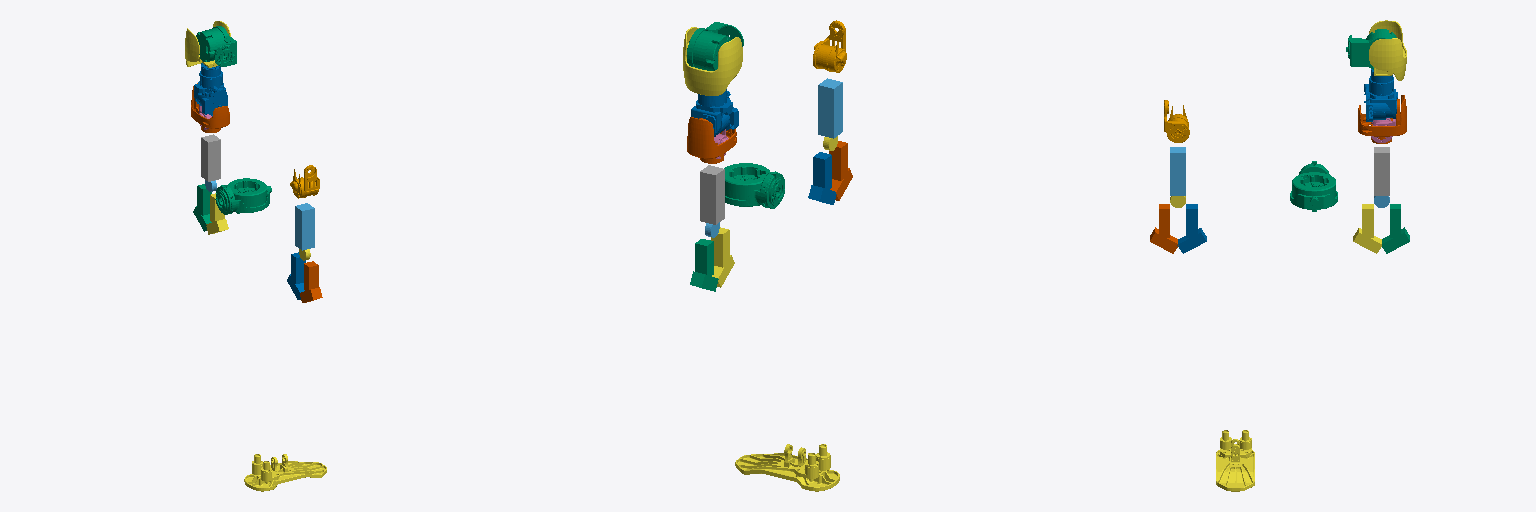
--- What the picture shows (computed from the rendered views, not written in the file) ---
Views: 3 orthographic renders of the robot side by side, from view 1: azimuth 30°, elevation 25°; view 2: azimuth 150°, elevation 25°; view 3: azimuth 270°, elevation 25°.
Robot: my_robot_description — 50 links, 49 joints (32 revolute, 17 fixed); root link dummy_link; default pose: every joint at zero.
Links seen in each view (by area): view 1: leg_r6_link, leg_l1_link, zarm_l1_link, zarm_l3_link, zarm_r6_link, zarm_l6_link, zarm_l4_link, zarm_r5_link, zarm_r_finger_right, zarm_l2_link, zarm_r_finger_left, zarm_l_finger_left; view 2: leg_r6_link, leg_l1_link, zarm_l2_link, zarm_l1_link, zarm_l4_link, zarm_r6_link, zarm_l6_link, zarm_l3_link, zarm_r5_link, zarm_l_finger_left, zarm_r_finger_left, zarm_r_finger_right (+1 smaller); view 3: leg_r6_link, leg_l1_link, zarm_l2_link, zarm_l3_link, zarm_l4_link, zarm_l1_link, zarm_l6_link, zarm_r6_link, zarm_l_finger_right, zarm_r_finger_left, zarm_l_finger_left, zarm_r_finger_right (+1 smaller).
Link boxes in pixels (left/top/right/bottom): leg_r6_link: left=244, top=454, right=326, bottom=491; leg_l1_link: left=215, top=178, right=271, bottom=214; zarm_l1_link: left=196, top=26, right=236, bottom=66; zarm_l3_link: left=194, top=63, right=227, bottom=115; zarm_r6_link: left=295, top=203, right=314, bottom=250; zarm_l6_link: left=201, top=134, right=220, bottom=181; zarm_l4_link: left=191, top=83, right=229, bottom=132; zarm_r5_link: left=290, top=165, right=319, bottom=198; zarm_r_finger_right: left=300, top=261, right=322, bottom=302; zarm_l2_link: left=185, top=21, right=230, bottom=67; zarm_r_finger_left: left=287, top=252, right=305, bottom=299; zarm_l_finger_left: left=193, top=184, right=211, bottom=231; leg_r6_link: left=735, top=444, right=839, bottom=491; leg_l1_link: left=724, top=163, right=784, bottom=208; zarm_l2_link: left=683, top=27, right=742, bottom=95; zarm_l1_link: left=687, top=22, right=743, bottom=70; zarm_l4_link: left=687, top=117, right=736, bottom=163; zarm_r6_link: left=818, top=78, right=842, bottom=138; zarm_l6_link: left=700, top=165, right=724, bottom=224; zarm_l3_link: left=691, top=89, right=738, bottom=136; zarm_r5_link: left=813, top=20, right=846, bottom=72; zarm_l_finger_left: left=690, top=239, right=718, bottom=291; zarm_r_finger_left: left=808, top=152, right=836, bottom=204; zarm_r_finger_right: left=829, top=141, right=852, bottom=200; leg_r6_link: left=1216, top=430, right=1254, bottom=491; leg_l1_link: left=1290, top=161, right=1337, bottom=211; zarm_l2_link: left=1369, top=20, right=1406, bottom=80; zarm_l3_link: left=1364, top=69, right=1397, bottom=121; zarm_l4_link: left=1358, top=95, right=1406, bottom=143; zarm_l1_link: left=1346, top=29, right=1396, bottom=69; zarm_l6_link: left=1374, top=147, right=1389, bottom=195; zarm_r6_link: left=1170, top=147, right=1185, bottom=195; zarm_l_finger_right: left=1353, top=204, right=1381, bottom=253; zarm_r_finger_left: left=1177, top=204, right=1206, bottom=253; zarm_l_finger_left: left=1382, top=204, right=1409, bottom=253; zarm_r_finger_right: left=1150, top=204, right=1178, bottom=253.
Bounding box of the posed robot: 0.244 × 0.6633 × 1.23 m (x, y, z).
8 mesh visuals loaded from 27 distinct referenced files (8 binary STL); not drawn: 19 (file found but could not be loaded).

robot.urdf — my_robot_description:
<?xml version='1.0' encoding='utf-8'?>
<robot name="my_robot_description">
  <mujoco>
    <compiler meshdir="../meshes/" balanceinertia="true" discardvisual="false" />
  </mujoco>
  <link name="dummy_link" />
  <link name="base_link">
    <inertial>
      <origin xyz="-0.00505 0.0014 0.18077" rpy="0 0 0" />
      <mass value="18.7919" />
      <inertia ixx="0.28214" ixy="3e-05" ixz="0.01114" iyy="0.20534" iyz="0.00044" izz="0.13735" />
    </inertial>
    <visual>
      <origin xyz="0 0 0" rpy="0 0 0" />
      <geometry>
        <mesh filename="package://my_robot_description/meshes/biped_s40_meshes/base_link.STL" scale="1 1 1" />
      </geometry>
    </visual>
  </link>
  <joint name="dummy_to_base_link" type="fixed">
    <origin xyz="0 0 0" rpy="0 0 0" />
    <parent link="dummy_link" />
    <child link="base_link" />
  </joint>
  <link name="leg_l1_link">
    <inertial>
      <origin xyz="-0.00624961 -5.6e-06 -0.00874166" rpy="0 0 0" />
      <mass value="1.79206533" />
      <inertia ixx="0.00211603" ixy="7.6e-07" ixz="0.000107" iyy="0.00302948" iyz="4.73e-06" izz="0.00399385" />
    </inertial>
    <visual>
      <origin xyz="0 0 0" rpy="0 0 0" />
      <geometry>
        <mesh filename="package://my_robot_description/meshes/biped_s40_meshes/l_leg_roll.STL" scale="1 1 1" />
      </geometry>
    </visual>
  </link>
  <joint name="leg_l1_joint" type="revolute">
    <origin xyz="-0.0025 0.087 -0.066" rpy="0 0 0" />
    <parent link="base_link" />
    <child link="leg_l1_link" />
    <axis xyz="1 0 0" />
    <limit lower="-0.314159265358979" upper="0.663225115757845" effort="180.0" velocity="23.55" />
  </joint>
  <link name="leg_l2_link">
    <inertial>
      <origin xyz="4.471e-05 0.04985881 -0.11682314" rpy="0 0 0" />
      <mass value="1.67630577" />
      <inertia ixx="0.00548763" ixy="-2.73e-06" ixz="-9.2e-07" iyy="0.0041542" iyz="0.00050833" izz="0.00426092" />
    </inertial>
    <visual>
      <origin xyz="0 0 0" rpy="0 0 0" />
      <geometry>
        <mesh filename="package://my_robot_description/meshes/biped_s40_meshes/l_leg_yaw.STL" scale="1 1 1" />
      </geometry>
    </visual>
  </link>
  <joint name="leg_l2_joint" type="revolute">
    <origin xyz="0 0 0" rpy="0 0 0" />
    <parent link="leg_l1_link" />
    <child link="leg_l2_link" />
    <axis xyz="0 0 1" />
    <limit lower="-1.0471975511966" upper="0.523598775598299" effort="100.0" velocity="41.3433333333333" />
  </joint>
  <link name="leg_l3_link">
    <inertial>
      <origin xyz="-0.00238348 -0.02309435 -0.06304956" rpy="0 0 0" />
      <mass value="2.46847" />
      <inertia ixx="0.02435272" ixy="4.518e-05" ixz="0.00123822" iyy="0.02479772" iyz="0.00261624" izz="0.00478829" />
    </inertial>
    <visual>
      <origin xyz="0 0 0" rpy="0 0 0" />
      <geometry>
        <mesh filename="package://my_robot_description/meshes/biped_s40_meshes/l_leg_pitch.STL" scale="1 1 1" />
      </geometry>
    </visual>
  </link>
  <joint name="leg_l3_joint" type="revolute">
    <origin xyz="0 0.02545000000000 -0.1287" rpy="0 0 0" />
    <parent link="leg_l2_link" />
    <child link="leg_l3_link" />
    <axis xyz="0 1 0" />
    <limit lower="-1.83259571459405" upper="1.0471975511966" effort="100.0" velocity="41.3433333333333" />
  </joint>
  <link name="leg_l4_link">
    <inertial>
      <origin xyz="0.00304104 -4.1e-05 -0.12213928" rpy="0 0 0" />
      <mass value="1.86452506" />
      <inertia ixx="0.01537791" ixy="7.85e-06" ixz="-0.00010781" iyy="0.01559985" iyz="-0.00015323" izz="0.00123021" />
    </inertial>
    <visual>
      <origin xyz="0 0 0" rpy="0 0 0" />
      <geometry>
        <mesh filename="package://my_robot_description/meshes/biped_s40_meshes/l_knee.STL" scale="1 1 1" />
      </geometry>
    </visual>
  </link>
  <joint name="leg_l4_joint" type="revolute">
    <origin xyz="-0.010390161952608 0 -0.249783995753446" rpy="0 0 0" />
    <parent link="leg_l3_link" />
    <child link="leg_l4_link" />
    <axis xyz="0 1 0" />
    <limit lower="0.0" upper="2.18166156499291" effort="100.0" velocity="41.3433333333333" />
  </joint>
  <link name="leg_l5_link">
    <inertial>
      <origin xyz="0.0 0.0 0.0" rpy="0 0 0" />
      <mass value="0.06923929" />
      <inertia ixx="6.66e-06" ixy="0.0" ixz="0.0" iyy="6.66e-06" iyz="0.0" izz="1.172e-05" />
    </inertial>
    <visual>
      <origin xyz="0 0 0" rpy="0 0 0" />
      <geometry>
        <mesh filename="package://my_robot_description/meshes/biped_s40_meshes/l_foot_pitch.STL" scale="1 1 1" />
      </geometry>
    </visual>
  </link>
  <joint name="leg_l5_joint" type="revolute">
    <origin xyz="0 0 -0.346000000000004" rpy="0 0 0" />
    <parent link="leg_l4_link" />
    <child link="leg_l5_link" />
    <axis xyz="0 1 0" />
    <limit lower="-0.610865238198015" upper="0.523598775598299" effort="36.0" velocity="23.0266666666667" />
  </joint>
  <link name="leg_l6_link">
    <inertial>
      <origin xyz="-0.00987056 -7.58e-06 -0.03365514" rpy="0 0 0" />
      <mass value="0.58358325" />
      <inertia ixx="0.0006342" ixy="1.4e-07" ixz="0.00031564" iyy="0.00227317" iyz="-2e-08" izz="0.00239382" />
    </inertial>
    <visual>
      <origin xyz="0 0 0" rpy="0 0 0" />
      <geometry>
        <mesh filename="package://my_robot_description/meshes/biped_s40_meshes/l_foot_roll.STL" scale="1 1 1" />
      </geometry>
    </visual>
  </link>
  <joint name="leg_l6_joint" type="revolute">
    <origin xyz="0 0 0" rpy="0 0 0" />
    <parent link="leg_l5_link" />
    <child link="leg_l6_link" />
    <axis xyz="1 0 0" />
    <limit lower="-0.349065850398866" upper="0.349065850398866" effort="36.0" velocity="23.0266666666667" />
  </joint>
  <link name="ll_foot_toe">
    <collision>
      <origin rpy="0 0 0" xyz="0 0 0" />
      <geometry>
        <sphere radius="0.005" />
      </geometry>
    </collision>
  </link>
  <joint name="ll_foot_toe_joint" type="fixed">
    <origin xyz="0.142507 0.04773 -0.0595" rpy="0 0 0" />
    <parent link="leg_l6_link" />
    <child link="ll_foot_toe" />
  </joint>
  <link name="ll_foot_heel">
    <collision>
      <origin rpy="0 0 0" xyz="0 0 0" />
      <geometry>
        <sphere radius="0.005" />
      </geometry>
    </collision>
  </link>
  <joint name="ll_foot_heel_joint" type="fixed">
    <origin xyz="-0.10149 0.04773 -0.0595" rpy="0 0 0" />
    <parent link="leg_l6_link" />
    <child link="ll_foot_heel" />
  </joint>
  <link name="lr_foot_toe">
    <collision>
      <origin rpy="0 0 0" xyz="0 0 0" />
      <geometry>
        <sphere radius="0.005" />
      </geometry>
    </collision>
  </link>
  <joint name="lr_foot_toe_joint" type="fixed">
    <origin xyz="0.142507 -0.04773 -0.0595" rpy="0 0 0" />
    <parent link="leg_l6_link" />
    <child link="lr_foot_toe" />
  </joint>
  <link name="lr_foot_heel">
    <collision>
      <origin rpy="0 0 0" xyz="0 0 0" />
      <geometry>
        <sphere radius="0.005" />
      </geometry>
    </collision>
  </link>
  <joint name="lr_foot_heel_joint" type="fixed">
    <origin xyz="-0.10149 -0.04773 -0.0595" rpy="0 0 0" />
    <parent link="leg_l6_link" />
    <child link="lr_foot_heel" />
  </joint>
  <link name="l_foot_toe">
    <collision>
      <origin rpy="0 0 0" xyz="0 0 0" />
      <geometry>
        <sphere radius="0.005" />
      </geometry>
    </collision>
  </link>
  <joint name="l_foot_toe_joint" type="fixed">
    <origin xyz="0.142507 0.0 -0.0595" rpy="0 0 0" />
    <parent link="leg_l6_link" />
    <child link="l_foot_toe" />
  </joint>
  <link name="l_foot_heel">
    <collision>
      <origin rpy="0 0 0" xyz="0 0 0" />
      <geometry>
        <sphere radius="0.005" />
      </geometry>
    </collision>
  </link>
  <joint name="l_foot_heel_joint" type="fixed">
    <origin xyz="-0.10149 0.0 -0.0595" rpy="0 0 0" />
    <parent link="leg_l6_link" />
    <child link="l_foot_heel" />
  </joint>
  <link name="leg_r1_link">
    <inertial>
      <origin xyz="-0.00624961 5.65e-06 -0.00874165" rpy="0 0 0" />
      <mass value="1.79206572" />
      <inertia ixx="0.00211603" ixy="-7.6e-07" ixz="0.000107" iyy="0.00302948" iyz="-4.73e-06" izz="0.00399385" />
    </inertial>
    <visual>
      <origin xyz="0 0 0" rpy="0 0 0" />
      <geometry>
        <mesh filename="package://my_robot_description/meshes/biped_s40_meshes/r_leg_roll.STL" scale="1 1 1" />
      </geometry>
    </visual>
  </link>
  <joint name="leg_r1_joint" type="revolute">
    <origin xyz="-0.0025 -0.087 -0.066" rpy="0 0 0" />
    <parent link="base_link" />
    <child link="leg_r1_link" />
    <axis xyz="1 0 0" />
    <limit lower="-0.663225115757845" upper="0.314159265358979" effort="180.0" velocity="23.55" />
  </joint>
  <link name="leg_r2_link">
    <inertial>
      <origin xyz="4.471e-05 -0.04985878 -0.11682313" rpy="0 0 0" />
      <mass value="1.67630636" />
      <inertia ixx="0.00548764" ixy="2.73e-06" ixz="-9.2e-07" iyy="0.00415421" iyz="-0.00050832" izz="0.00426093" />
    </inertial>
    <visual>
      <origin xyz="0 0 0" rpy="0 0 0" />
      <geometry>
        <mesh filename="package://my_robot_description/meshes/biped_s40_meshes/r_leg_yaw.STL" scale="1 1 1" />
      </geometry>
    </visual>
  </link>
  <joint name="leg_r2_joint" type="revolute">
    <origin xyz="0 0 0" rpy="0 0 0" />
    <parent link="leg_r1_link" />
    <child link="leg_r2_link" />
    <axis xyz="0 0 1" />
    <limit lower="-0.523598775598299" upper="1.0471975511966" effort="100.0" velocity="41.3433333333333" />
  </joint>
  <link name="leg_r3_link">
    <inertial>
      <origin xyz="-0.00238153 0.02309009 -0.06305853" rpy="0 0 0" />
      <mass value="2.46916674" />
      <inertia ixx="0.02435155" ixy="-4.518e-05" ixz="0.00123747" iyy="0.02479853" iyz="-0.00261573" izz="0.0047908" />
    </inertial>
    <visual>
      <origin xyz="0 0 0" rpy="0 0 0" />
      <geometry>
        <mesh filename="package://my_robot_description/meshes/biped_s40_meshes/r_leg_pitch.STL" scale="1 1 1" />
      </geometry>
    </visual>
  </link>
  <joint name="leg_r3_joint" type="revolute">
    <origin xyz="0 -0.02545000000000 -0.1287" rpy="0 0 0" />
    <parent link="leg_r2_link" />
    <child link="leg_r3_link" />
    <axis xyz="0 1 0" />
    <limit lower="-1.83259571459405" upper="1.0471975511966" effort="100.0" velocity="41.3433333333333" />
  </joint>
  <link name="leg_r4_link">
    <inertial>
      <origin xyz="0.00304109 4.102e-05 -0.12213983" rpy="0 0 0" />
      <mass value="1.86454133" />
      <inertia ixx="0.01537809" ixy="-7.85e-06" ixz="-0.00010779" iyy="0.01560001" iyz="0.00015322" izz="0.00123022" />
    </inertial>
    <visual>
      <origin xyz="0 0 0" rpy="0 0 0" />
      <geometry>
        <mesh filename="package://my_robot_description/meshes/biped_s40_meshes/r_knee.STL" scale="1 1 1" />
      </geometry>
    </visual>
  </link>
  <joint name="leg_r4_joint" type="revolute">
    <origin xyz="-0.0103901619526017 0 -0.249783995753447" rpy="0 0 0" />
    <parent link="leg_r3_link" />
    <child link="leg_r4_link" />
    <axis xyz="0 1 0" />
    <limit lower="0.0" upper="2.18166156499291" effort="100.0" velocity="41.3433333333333" />
  </joint>
  <link name="leg_r5_link">
    <inertial>
      <origin xyz="0.0 0.0 0.0" rpy="0 0 0" />
      <mass value="0.06923929" />
      <inertia ixx="6.66e-06" ixy="0.0" ixz="0.0" iyy="6.66e-06" iyz="0.0" izz="1.172e-05" />
    </inertial>
    <visual>
      <origin xyz="0 0 0" rpy="0 0 0" />
      <geometry>
        <mesh filename="package://my_robot_description/meshes/biped_s40_meshes/r_foot_pitch.STL" scale="1 1 1" />
      </geometry>
    </visual>
  </link>
  <joint name="leg_r5_joint" type="revolute">
    <origin xyz="0 0 -0.346000000000011" rpy="0 0 0" />
    <parent link="leg_r4_link" />
    <child link="leg_r5_link" />
    <axis xyz="0 1 0" />
    <limit lower="-0.523598775598299" upper="0.523598775598299" effort="36.0" velocity="23.0266666666667" />
  </joint>
  <link name="leg_r6_link">
    <inertial>
      <origin xyz="-0.00987049 7.65e-06 -0.03365512" rpy="0 0 0" />
      <mass value="0.58358273" />
      <inertia ixx="0.0006342" ixy="-1.4e-07" ixz="0.00031564" iyy="0.00227317" iyz="2e-08" izz="0.00239382" />
    </inertial>
    <visual>
      <origin xyz="0 0 0" rpy="0 0 0" />
      <geometry>
        <mesh filename="package://my_robot_description/meshes/biped_s40_meshes/r_foot_roll.STL" scale="1 1 1" />
      </geometry>
    </visual>
  </link>
  <joint name="leg_r6_joint" type="revolute">
    <origin xyz="0 0 0" rpy="0 0 0" />
    <parent link="leg_r5_link" />
    <child link="leg_r6_link" />
    <axis xyz="1 0 0" />
    <limit lower="-0.349065850398866" upper="0.349065850398866" effort="36.0" velocity="23.0266666666667" />
  </joint>
  <link name="rl_foot_toe">
    <collision>
      <origin rpy="0 0 0" xyz="0 0 0" />
      <geometry>
        <sphere radius="0.005" />
      </geometry>
    </collision>
  </link>
  <joint name="rl_foot_toe_joint" type="fixed">
    <origin xyz="0.142507 0.04773 -0.0595" rpy="0 0 0" />
    <parent link="leg_r6_link" />
    <child link="rl_foot_toe" />
  </joint>
  <link name="rl_foot_heel">
    <collision>
      <origin rpy="0 0 0" xyz="0 0 0" />
      <geometry>
        <sphere radius="0.005" />
      </geometry>
    </collision>
  </link>
  <joint name="rl_foot_heel_joint" type="fixed">
    <origin xyz="-0.10149 0.04773 -0.0595" rpy="0 0 0" />
    <parent link="leg_r6_link" />
    <child link="rl_foot_heel" />
  </joint>
  <link name="rr_foot_toe">
    <collision>
      <origin rpy="0 0 0" xyz="0 0 0" />
      <geometry>
        <sphere radius="0.005" />
      </geometry>
    </collision>
  </link>
  <joint name="rr_foot_toe_joint" type="fixed">
    <origin xyz="0.142507 -0.04773 -0.0595" rpy="0 0 0" />
    <parent link="leg_r6_link" />
    <child link="rr_foot_toe" />
  </joint>
  <link name="rr_foot_heel">
    <collision>
      <origin rpy="0 0 0" xyz="0 0 0" />
      <geometry>
        <sphere radius="0.005" />
      </geometry>
    </collision>
  </link>
  <joint name="rr_foot_heel_joint" type="fixed">
    <origin xyz="-0.10149 -0.04773 -0.0595" rpy="0 0 0" />
    <parent link="leg_r6_link" />
    <child link="rr_foot_heel" />
  </joint>
  <link name="r_foot_toe">
    <collision>
      <origin rpy="0 0 0" xyz="0 0 0" />
      <geometry>
        <sphere radius="0.005" />
      </geometry>
    </collision>
  </link>
  <joint name="r_foot_toe_joint" type="fixed">
    <origin xyz="0.142507 0.0 -0.0595" rpy="0 0 0" />
    <parent link="leg_r6_link" />
    <child link="r_foot_toe" />
  </joint>
  <link name="r_foot_heel">
    <collision>
      <origin rpy="0 0 0" xyz="0 0 0" />
      <geometry>
        <sphere radius="0.005" />
      </geometry>
    </collision>
  </link>
  <joint name="r_foot_heel_joint" type="fixed">
    <origin xyz="-0.10149 0.0 -0.0595" rpy="0 0 0" />
    <parent link="leg_r6_link" />
    <child link="r_foot_heel" />
  </joint>
  <link name="zarm_l1_link">
    <inertial>
      <origin xyz="0.008 -0.00158 0.0036" rpy="0 0 0" />
      <mass value="1.15" />
      <inertia ixx="0.0006" ixy="5e-05" ixz="1e-05" iyy="0.00048" iyz="-6e-05" izz="0.0007" />
    </inertial>
    <visual>
      <origin xyz="0 0 0" rpy="0 0 0" />
      <geometry>
        <mesh filename="package://my_robot_description/meshes/biped_s40_meshes/l_arm_pitch.STL" scale="1 1 1" />
      </geometry>
    </visual>
  </link>
  <joint name="zarm_l1_joint" type="revolute">
    <origin xyz="-0.0175 0.25886 0.3245" rpy="0 0 0" />
    <parent link="base_link" />
    <child link="zarm_l1_link" />
    <axis xyz="0 1 0" />
    <limit lower="-2.61799387799149" upper="0.523598775598299" effort="100.0" velocity="41.3433333333333" />
  </joint>
  <link name="zarm_l2_link">
    <inertial>
      <origin xyz="0.00144 0.02159 -0.0202" rpy="0 0 0" />
      <mass value="0.226" />
      <inertia ixx="0.0003" ixy="3e-05" ixz="1e-05" iyy="0.00061" iyz="5e-05" izz="0.00057" />
    </inertial>
    <visual>
      <origin xyz="0 0 0" rpy="0 0 0" />
      <geometry>
        <mesh filename="package://my_robot_description/meshes/biped_s40_meshes/l_arm_roll.STL" scale="1 1 1" />
      </geometry>
    </visual>
  </link>
  <joint name="zarm_l2_joint" type="revolute">
    <origin xyz="0 0 0" rpy="0 0 0" />
    <parent link="zarm_l1_link" />
    <child link="zarm_l2_link" />
    <axis xyz="1 0 0" />
    <limit lower="-0.349065850398866" upper="2.0943951023932" effort="50.0" velocity="19.154" />
  </joint>
  <link name="zarm_l3_link">
    <inertial>
      <origin xyz="-0.00157 -3e-05 -0.13318" rpy="0 0 0" />
      <mass value="1.166" />
      <inertia ixx="0.00245" ixy="-1e-05" ixz="-1e-05" iyy="0.0022" iyz="0.0" izz="0.00112" />
    </inertial>
    <visual>
      <origin xyz="0 0 0" rpy="0 0 0" />
      <geometry>
        <mesh filename="package://my_robot_description/meshes/biped_s40_meshes/l_arm_yaw.STL" scale="1 1 1" />
      </geometry>
    </visual>
  </link>
  <joint name="zarm_l3_joint" type="revolute">
    <origin xyz="0 0 0" rpy="0 0 0" />
    <parent link="zarm_l2_link" />
    <child link="zarm_l3_link" />
    <axis xyz="0 0 1" />
    <limit lower="-1.5707963267949" upper="1.5707963267949" effort="20.0" velocity="18.84" />
  </joint>
  <link name="zarm_l4_link">
    <inertial>
      <origin xyz="-4e-05 0.0098 -0.05283" rpy="0 0 0" />
      <mass value="0.575" />
      <inertia ixx="0.00098" ixy="0.0" ixz="0.0" iyy="0.00062" iyz="-0.00016" izz="0.00088" />
    </inertial>
    <visual>
      <origin xyz="0 0 0" rpy="0 0 0" />
      <geometry>
        <mesh filename="package://my_robot_description/meshes/biped_s40_meshes/l_forearm.STL" scale="1 1 1" />
      </geometry>
    </visual>
  </link>
  <joint name="zarm_l4_joint" type="revolute">
    <origin xyz="0 0 -0.1646" rpy="0 0 0" />
    <parent link="zarm_l3_link" />
    <child link="zarm_l4_link" />
    <axis xyz="0 1 0" />
    <limit lower="-1.5707963267949" upper="0.0" effort="20.0" velocity="18.84" />
  </joint>
  <link name="zarm_l5_link">
    <inertial>
      <origin xyz="-0.00011 0.00421 -0.11168" rpy="0 0 0" />
      <mass value="0.46" />
      <inertia ixx="0.00077" ixy="0.0" ixz="0.0" iyy="0.0005" iyz="-4e-05" izz="0.00063" />
    </inertial>
    <visual>
      <origin xyz="0 0 0" rpy="0 0 0" />
      <geometry>
        <mesh filename="package://my_robot_description/meshes/biped_s40_meshes/l_hand_pitch.STL" scale="1 1 1" />
      </geometry>
    </visual>
  </link>
  <joint name="zarm_l5_joint" type="revolute">
    <origin xyz="0 0 0" rpy="0 0 0" />
    <parent link="zarm_l4_link" />
    <child link="zarm_l5_link" />
    <axis xyz="0 0 1" />
    <limit lower="-1.5707963267949" upper="1.5707963267949" effort="6.0" velocity="21.666" />
  </joint>

  <link name="zarm_l6_link">
    <inertial>
      <origin xyz="0.00253 0.00382 -0.05356" rpy="0 0 0" />
      <mass value="0.35" />
      <inertia ixx="0.00023" ixy="0.0" ixz="0.0" iyy="0.00024" iyz="-4e-05" izz="0.00019" />
    </inertial>

    <visual>
      <origin xyz="0 0 -0.06" rpy="0 0 0" />
      <geometry>
        <box size="0.04 0.04 0.12" />
      </geometry>
    </visual>

    <collision>
      <origin xyz="0 0 -0.06" rpy="0 0 0" />
      <geometry>
        <box size="0.04 0.04 0.12" />
      </geometry>
    </collision>
  </link>

  <joint name="zarm_l6_joint" type="revolute">
    <origin xyz="0 0 -0.12" rpy="0 0 0" />
    <parent link="zarm_l5_link" />
    <child link="zarm_l6_link" />
    <axis xyz="0 1 0" />
    <limit lower="-1.5707963267949" upper="1.5707963267949" effort="6.0" velocity="21.666" />
  </joint>

  <!-- left_hand_7_part -->
  <link name="zarm_l7_link">
    <inertial>
      <origin xyz="0.00267 0.00748 -0.07162" rpy="0 0 0" />
      <mass value="0.81" />
      <inertia ixx="0.00117" ixy="2e-05" ixz="0.0" iyy="0.00128" iyz="-2e-05" izz="0.00036" />
    </inertial>
  </link>

  <joint name="zarm_l7_joint" type="revolute">
    <origin xyz="0 0 -0.14" rpy="0 0 0" />
    <parent link="zarm_l6_link" />
    <child link="zarm_l7_link" />
    <axis xyz="1 0 0" />
    <limit lower="-1.5707963267949" upper="1.5707963267949" effort="6.0" velocity="21.666" />
  </joint>
  <!-- left_hand_7_part -->

  <!-- left_end_effector -->
  <link name="zarm_l7_end_effector">
    <inertial>
      <origin xyz="0 0 0" rpy="0 0 0" />
      <mass value="0.2" />
      <inertia ixx="1e-04" ixy="0" ixz="0" iyy="1e-04" iyz="0" izz="1e-04" />
    </inertial>
    <visual>
      <origin xyz="0 0 0" rpy="0 0 0" />
      <geometry>
        <cylinder radius="0.02" length="0.015" />
      </geometry>
    </visual>
    <collision>
      <origin xyz="0 0 0" rpy="0 0 0" />
      <geometry>
        <cylinder radius="0.02" length="0.015" />
      </geometry>
    </collision>
  </link>

  <joint name="zarm_l7_end_effector_joint" type="fixed">
    <origin xyz="0 0 0" rpy="0 1.57079632679 0" />
    <parent link="zarm_l7_link" />
    <child link="zarm_l7_end_effector" />
  </joint>

  <link name="zarm_l_finger_left">
    <inertial>
      <origin xyz="0.08 0 0" rpy="0 0 0" />
      <mass value="0.05" />
      <inertia ixx="1e-05" ixy="0" ixz="0" iyy="1e-05" iyz="0" izz="1e-05" />
    </inertial>
    <visual>
      <origin xyz="0.08 0 0" rpy="0 0 0" />
      <geometry>
        <box size="0.08 0.03 0.03" />
      </geometry>
    </visual>
    <visual>
      <origin xyz="0.135 0 0" rpy="0 0 2.09439510239" />
      <geometry>
        <box size="0.07 0.03 0.03" />
      </geometry>
    </visual>
    <collision>
      <origin xyz="0.10 0 0" rpy="0 0 0" />
      <geometry>
        <box size="0.12 0.035 0.035" />
      </geometry>
    </collision>
  </link>

  <joint name="zarm_l_finger_left_joint" type="revolute">
    <origin xyz="-0.02 0.035 0" rpy="0 0 0" />
    <parent link="zarm_l7_end_effector" />
    <child link="zarm_l_finger_left" />
    <axis xyz="0 0 1" />
   <limit lower="0.0" upper="0.78539816339" effort="5.0" velocity="1.0" />
  </joint>

  <link name="zarm_l_finger_right">
    <inertial>
      <origin xyz="0.08 0 0" rpy="0 0 0" />
      <mass value="0.05" />
      <inertia ixx="1e-05" ixy="0" ixz="0" iyy="1e-05" iyz="0" izz="1e-05" />
    </inertial>
    <visual>
      <origin xyz="0.08 0 0" rpy="0 0 0" />
      <geometry>
        <box size="0.08 0.03 0.03" />
      </geometry>
    </visual>
    <visual>
      <origin xyz="0.135 0 0" rpy="0 0 -2.09439510239" />
      <geometry>
        <box size="0.07 0.03 0.03" />
      </geometry>
    </visual>
    <collision>
      <origin xyz="0.10 0 0" rpy="0 0 0" />
      <geometry>
        <box size="0.12 0.035 0.035" />
      </geometry>
    </collision>
  </link>

  <joint name="zarm_l_finger_right_joint" type="revolute">
    <origin xyz="-0.02 -0.035 0" rpy="0 0 0" />
    <parent link="zarm_l7_end_effector" />
    <child link="zarm_l_finger_right" />
    <axis xyz="0 0 1" />
    <limit lower="-0.78539816339" upper="0.0" effort="5.0" velocity="1.0" />
    <mimic joint="zarm_l_finger_left_joint" multiplier="-1" offset="0" />
  </joint>
  <!-- left_end_effector -->

  <link name="zarm_r1_link">
    <inertial>
      <origin xyz="0.008 0.00158 -0.0036" rpy="0 0 0" />
      <mass value="1.15" />
      <inertia ixx="0.0006" ixy="-5e-05" ixz="-1e-05" iyy="0.00048" iyz="-6e-05" izz="0.0007" />
    </inertial>
    <visual>
      <origin xyz="0 0 0" rpy="0 0 0" />
      <geometry>
        <mesh filename="package://my_robot_description/meshes/biped_s40_meshes/r_arm_pitch.STL" scale="1 1 1" />
      </geometry>
    </visual>
  </link>
  <joint name="zarm_r1_joint" type="revolute">
    <origin xyz="-0.0175 -0.25886 0.3245" rpy="0 0 0" />
    <parent link="base_link" />
    <child link="zarm_r1_link" />
    <axis xyz="0 1 0" />
    <limit lower="-2.61799387799149" upper="0.523598775598299" effort="100.0" velocity="41.3433333333333" />
  </joint>
  <link name="zarm_r2_link">
    <inertial>
      <origin xyz="0.00144 -0.02159 -0.02021" rpy="0 0 0" />
      <mass value="0.226" />
      <inertia ixx="0.0003" ixy="-3e-05" ixz="1e-05" iyy="0.00061" iyz="-5e-05" izz="0.00057" />
    </inertial>
    <visual>
      <origin xyz="0 0 0" rpy="0 0 0" />
      <geometry>
        <mesh filename="package://my_robot_description/meshes/biped_s40_meshes/r_arm_roll.STL" scale="1 1 1" />
      </geometry>
    </visual>
  </link>
  <joint name="zarm_r2_joint" type="revolute">
    <origin xyz="0 0 0" rpy="0 0 0" />
    <parent link="zarm_r1_link" />
    <child link="zarm_r2_link" />
    <axis xyz="1 0 0" />
    <limit lower="-2.0943951023932" upper="0.349065850398866" effort="50.0" velocity="19.154" />
  </joint>
  <link name="zarm_r3_link">
    <inertial>
      <origin xyz="-0.00157 3e-05 -0.13318" rpy="0 0 0" />
      <mass value="1.166" />
      <inertia ixx="0.00245" ixy="1e-05" ixz="-1e-05" iyy="0.0022" iyz="0.0" izz="0.00112" />
    </inertial>
    <visual>
      <origin xyz="0 0 0" rpy="0 0 0" />
      <geometry>
        <mesh filename="package://my_robot_description/meshes/biped_s40_meshes/r_arm_yaw.STL" scale="1 1 1" />
      </geometry>
    </visual>
  </link>
  <joint name="zarm_r3_joint" type="revolute">
    <origin xyz="0 0 0" rpy="0 0 0" />
    <parent link="zarm_r2_link" />
    <child link="zarm_r3_link" />
    <axis xyz="0 0 1" />
    <limit lower="-1.5707963267949" upper="1.5707963267949" effort="20.0" velocity="18.84" />
  </joint>
  <link name="zarm_r4_link">
    <inertial>
      <origin xyz="-4e-05 -0.0098 -0.05283" rpy="0 0 0" />
      <mass value="0.575" />
      <inertia ixx="0.00098" ixy="0.0" ixz="0.0" iyy="0.00062" iyz="0.00016" izz="0.00088" />
    </inertial>
    <visual>
      <origin xyz="0 0 0" rpy="0 0 0" />
      <geometry>
        <mesh filename="package://my_robot_description/meshes/biped_s40_meshes/r_forearm.STL" scale="1 1 1" />
      </geometry>
    </visual>
  </link>
  <joint name="zarm_r4_joint" type="revolute">
    <origin xyz="0 0 -0.1646" rpy="0 0 0" />
    <parent link="zarm_r3_link" />
    <child link="zarm_r4_link" />
    <axis xyz="0 1 0" />
    <limit lower="-1.5707963267949" upper="0.0" effort="20.0" velocity="18.84" />
  </joint>
  <link name="zarm_r5_link">
    <inertial>
      <origin xyz="-0.00011 -0.00421 -0.11168" rpy="0 0 0" />
      <mass value="0.46" />
      <inertia ixx="0.00077" ixy="0.0" ixz="0.0" iyy="0.0005" iyz="4e-05" izz="0.00063" />
    </inertial>
    <visual>
      <origin xyz="0 0 0" rpy="0 0 0" />
      <geometry>
        <mesh filename="package://my_robot_description/meshes/biped_s40_meshes/r_hand_pitch.STL" scale="1 1 1" />
      </geometry>
    </visual>
  </link>
  <joint name="zarm_r5_joint" type="revolute">
    <origin xyz="0 0 0" rpy="0 0 0" />
    <parent link="zarm_r4_link" />
    <child link="zarm_r5_link" />
    <axis xyz="0 0 1" />
    <limit lower="-1.5707963267949" upper="1.5707963267949" effort="6.0" velocity="21.666" />
  </joint>
  <!-- right_hand_6_part -->
  <link name="zarm_r6_link">
    <inertial>
      <origin xyz="0.00253 -0.00382 -0.05356" rpy="0 0 0" />
      <mass value="0.35" />
      <inertia ixx="0.00023" ixy="0.0" ixz="0.0" iyy="0.00024" iyz="4e-05" izz="0.00019" />
    </inertial>

    <!-- прямоугольная призма вместо mesh, как у левой руки -->
    <visual>
      <origin xyz="0 0 -0.06" rpy="0 0 0" />
      <geometry>
        <box size="0.04 0.04 0.12" />
      </geometry>
    </visual>

    <collision>
      <origin xyz="0 0 -0.06" rpy="0 0 0" />
      <geometry>
        <box size="0.04 0.04 0.12" />
      </geometry>
    </collision>
  </link>

  <joint name="zarm_r6_joint" type="revolute">
    <!-- смещение такое же, как у zarm_l6_joint -->
    <origin xyz="0 0 -0.12" rpy="0 0 0" />
    <parent link="zarm_r5_link" />
    <child link="zarm_r6_link" />
    <axis xyz="0 1 0" />
    <limit lower="-1.5707963267949" upper="1.5707963267949" effort="6.0" velocity="21.666" />
  </joint>
  <!-- right_hand_6_part -->

  <!-- right_hand_7_part -->
  <link name="zarm_r7_link">
    <inertial>
      <origin xyz="0.00267 -0.00748 -0.07162" rpy="0 0 0" />
      <mass value="0.81" />
      <inertia ixx="0.00098" ixy="-1e-05" ixz="1e-05" iyy="0.00104" iyz="1e-05" izz="0.00027" />
    </inertial>
  </link>

  <joint name="zarm_r7_joint" type="revolute">
    <origin xyz="0 0 -0.14" rpy="0 0 0" />
    <parent link="zarm_r6_link" />
    <child link="zarm_r7_link" />
    <axis xyz="1 0 0" />
    <limit lower="-1.5707963267949" upper="1.5707963267949" effort="6.0" velocity="21.666" />
  </joint>
  <!-- right_hand_7_part -->

  <!-- right_end_effector -->
  <link name="zarm_r7_end_effector">
    <inertial>
      <origin xyz="0 0 0" rpy="0 0 0" />
      <mass value="0.2" />
      <inertia ixx="1e-04" ixy="0" ixz="0" iyy="1e-04" iyz="0" izz="1e-04" />
    </inertial>
    <visual>
      <origin xyz="0 0 0" rpy="0 0 0" />
      <geometry>
        <cylinder radius="0.02" length="0.015" />
      </geometry>
    </visual>
    <collision>
      <origin xyz="0 0 0" rpy="0 0 0" />
      <geometry>
        <cylinder radius="0.02" length="0.015" />
      </geometry>
    </collision>
  </link>

  <joint name="zarm_r7_end_effector_joint" type="fixed">
    <origin xyz="0 0 0" rpy="0 1.57079632679 0" />
    <parent link="zarm_r7_link" />
    <child link="zarm_r7_end_effector" />
  </joint>

  <link name="zarm_r_finger_left">
    <inertial>
      <origin xyz="0.08 0 0" rpy="0 0 0" />
      <mass value="0.05" />
      <inertia ixx="1e-05" ixy="0" ixz="0" iyy="1e-05" iyz="0" izz="1e-05" />
    </inertial>
    <visual>
      <origin xyz="0.08 0 0" rpy="0 0 0" />
      <geometry>
        <box size="0.08 0.03 0.03" />
      </geometry>
    </visual>
    <visual>
      <origin xyz="0.135 0 0" rpy="0 0 2.09439510239" />
      <geometry>
        <box size="0.07 0.03 0.03" />
      </geometry>
    </visual>
    <collision>
      <origin xyz="0.10 0 0" rpy="0 0 0" />
      <geometry>
        <box size="0.12 0.035 0.035" />
      </geometry>
    </collision>
  </link>

  <joint name="zarm_r_finger_left_joint" type="revolute">
    <origin xyz="-0.02 0.035 0" rpy="0 0 0" />
    <parent link="zarm_r7_end_effector" />
    <child link="zarm_r_finger_left" />
    <axis xyz="0 0 1" />
    <limit lower="0.0" upper="0.78539816339" effort="5.0" velocity="1.0" />
  </joint>

  <link name="zarm_r_finger_right">
    <inertial>
      <origin xyz="0.08 0 0" rpy="0 0 0" />
      <mass value="0.05" />
      <inertia ixx="1e-05" ixy="0" ixz="0" iyy="1e-05" iyz="0" izz="1e-05" />
    </inertial>
    <visual>
      <origin xyz="0.08 0 0" rpy="0 0 0" />
      <geometry>
        <box size="0.08 0.03 0.03" />
      </geometry>
    </visual>
    <visual>
      <origin xyz="0.135 0 0" rpy="0 0 -2.09439510239" />
      <geometry>
        <box size="0.07 0.03 0.03" />
      </geometry>
    </visual>
    <collision>
      <origin xyz="0.10 0 0" rpy="0 0 0" />
      <geometry>
        <box size="0.12 0.035 0.035" />
      </geometry>
    </collision>
  </link>

  <joint name="zarm_r_finger_right_joint" type="revolute">
    <origin xyz="-0.02 -0.035 0" rpy="0 0 0" />
    <parent link="zarm_r7_end_effector" />
    <child link="zarm_r_finger_right" />
    <axis xyz="0 0 1" />
    <limit lower="-0.78539816339" upper="0.0" effort="5.0" velocity="1.0" />
    <mimic joint="zarm_r_finger_left_joint" multiplier="-1" offset="0" />
  </joint>
  <!-- right_end_effector -->
  <link name="zhead_1_link">
    <inertial>
      <origin xyz="0.0 0.01245 -0.02982" rpy="0 0 0" />
      <mass value="0.082" />
      <inertia ixx="7e-05" ixy="0.0" ixz="0.0" iyy="6e-05" iyz="-2e-05" izz="8e-05" />
    </inertial>
    <visual>
      <origin xyz="0 0 0" rpy="0 0 0" />
      <geometry>
        <mesh filename="package://my_robot_description/meshes/biped_s40_meshes/head_yaw.STL" scale="1 1 1" />
      </geometry>
    </visual>
  </link>
  <joint name="zhead_1_joint" type="revolute">
    <origin xyz="-0.0175 0.0 0.5014" rpy="0 0 0" />
    <parent link="base_link" />
    <child link="zhead_1_link" />
    <axis xyz="0 0 1" />
    <limit lower="-1.5707963267949" upper="1.5707963267949" effort="1.5" velocity="5.23333333333333" />
  </joint>
  <link name="zhead_2_link">
    <inertial>
      <origin xyz="0.01106 0.00069 0.0586" rpy="0 0 0" />
      <mass value="1.379" />
      <inertia ixx="0.003" ixy="1e-05" ixz="0.0003" iyy="0.00301" iyz="5e-05" izz="0.00281" />
    </inertial>
    <visual>
      <origin xyz="0 0 0" rpy="0 0 0" />
      <geometry>
        <mesh filename="package://my_robot_description/meshes/biped_s40_meshes/head_pitch.STL" scale="1 1 1" />
      </geometry>
    </visual>
  </link>
  <joint name="zhead_2_joint" type="revolute">
    <origin xyz="0 0 0" rpy="0 0 0" />
    <parent link="zhead_1_link" />
    <child link="zhead_2_link" />
    <axis xyz="0 1 0" />
    <limit lower="-0.523598775598299" upper="0.523598775598299" effort="6.0" velocity="9.734" />
  </joint>
  <link name="camera">
    <inertial>
      <origin xyz="-0.04336 -0.01736 -0.01161" rpy="0 0 0" />
      <mass value="0.047" />
      <inertia ixx="0.00065" ixy="0.0" ixz="0.00015" iyy="0.00091" iyz="0.0" izz="0.00105" />
    </inertial>
    <visual>
      <origin xyz="0 0 0" rpy="0 0 0" />
      <geometry>
        <mesh filename="package://my_robot_description/meshes/biped_s40_meshes/camera.STL" scale="1 1 1" />
      </geometry>
    </visual>
  </link>
  <joint name="camera" type="fixed">
    <origin xyz="0.0919101155958193 0.0175000000022731 0.0617838754768194" rpy="0 0.610865238198013 0" />
    <parent link="zhead_2_link" />
    <child link="camera" />
  </joint>

  <link
    name="camera_base">
    <inertial>
      <origin
        xyz="0.00354055612698423 0.00140393663616134 0.0124511788327371"
        rpy="0 0 0" />
      <mass
        value="0.0170255961584929" />
      <inertia
        ixx="1.09182620877589E-05"
        ixy="1.05354237503678E-07"
        ixz="1.05871360812799E-08"
        iyy="8.57178923448405E-07"
        iyz="1.6401848102306E-08"
        izz="1.02869873531782E-05" />
    </inertial>
    <visual>
      <origin
        xyz="0 0 0"
        rpy="0 0 0" />
      <geometry>
        <mesh filename="package://my_robot_description/meshes/biped_s40_meshes/camera_base.STL" scale="1 1 1" />
      </geometry>
    </visual>
    <collision>
      <origin
        xyz="0 0 0"
        rpy="0 0 0" />
      <geometry>
        <cylinder radius="0.03" length="0.15" />
      </geometry>
    </collision>
  </link>
  <joint
    name="camera_base"
    type="fixed">
    <origin
      xyz="0.0766792844154498 0 0.0571889355165869"
      rpy="0 0.610865238198013 0" />
    <parent
      link="zhead_2_link" />
    <child
      link="camera_base" />
  </joint>
  
</robot>
